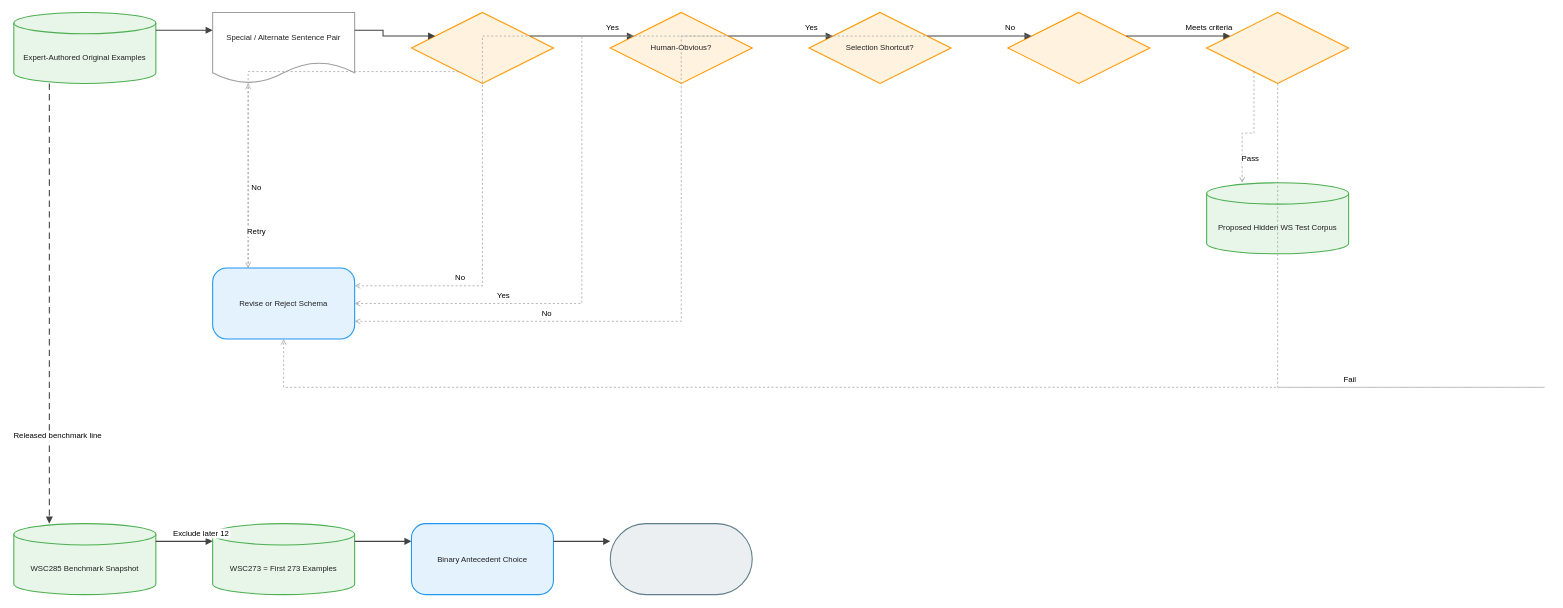
Image size: 1563x608. Some labels were removed from this diagram. Each missing label, with the box of its shape:
Google-Proof?: (1007, 12, 1150, 84)
Opposite Antecedents?: (411, 12, 554, 84)
Proposed Native-Speaker Test Passed?: (1206, 12, 1349, 84)
WSC273 Accuracy: (609, 523, 752, 595)
